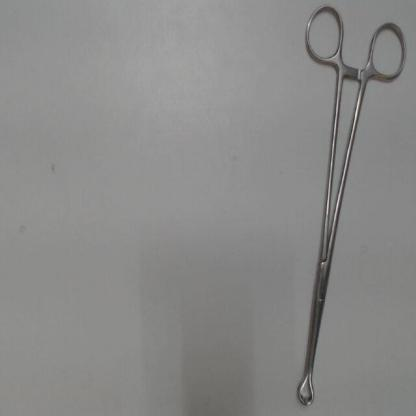8 Babcock Tissue Forceps: (290, 0, 412, 412)
